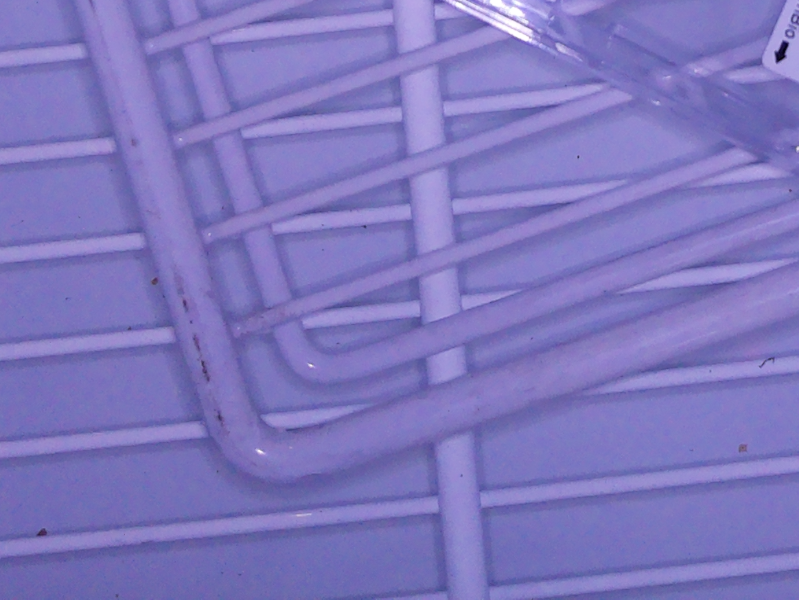plate: (441, 1, 799, 174)
